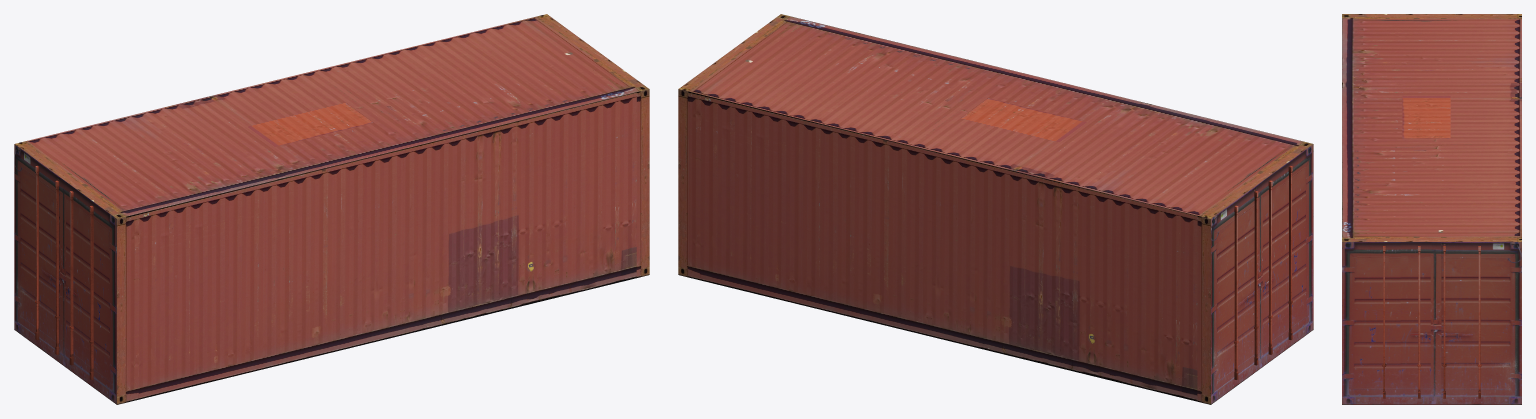
Rendered from Container_Cargo04.FBX.
3 views of the same model, side by side, from view 1: azimuth 30°, elevation 25°; view 2: azimuth 150°, elevation 25°; view 3: azimuth 270°, elevation 25° (orthographic). The views are drawn at different scales.
Parts seen in each view (by area): view 1: Container_Cargo04; view 2: Container_Cargo04; view 3: Container_Cargo04.
Boxes of the visible parts, x1=… form: Container_Cargo04: x1=14, y1=14, x2=649, y2=404; Container_Cargo04: x1=678, y1=14, x2=1313, y2=404; Container_Cargo04: x1=1342, y1=14, x2=1521, y2=404.
Bounding box in the file's own units: 327 × 108 × 108.
